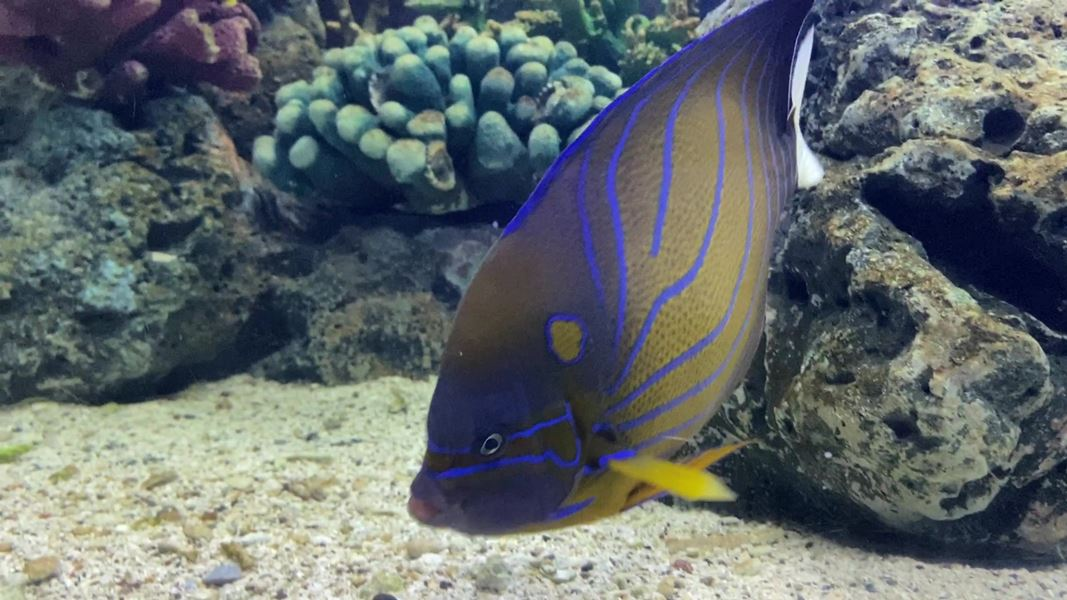Blue ring angelfish: (393, 2, 838, 571)
